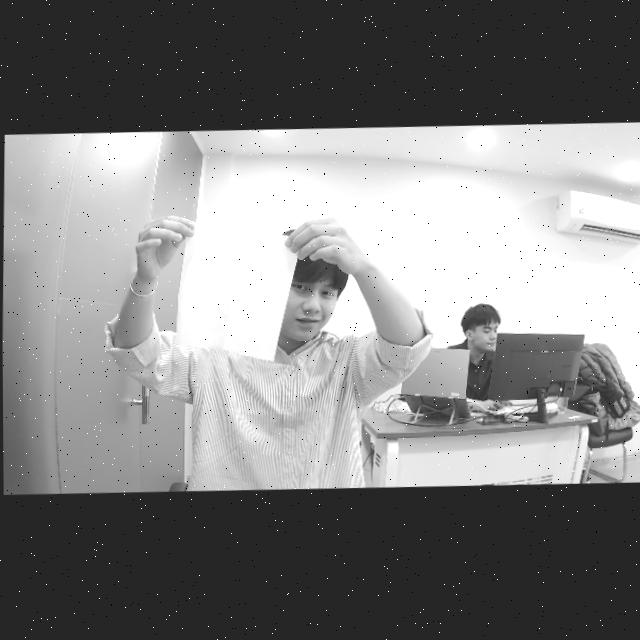face: (288, 273, 345, 342), (477, 317, 501, 352)
